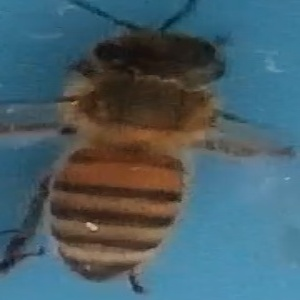bee: (15, 4, 277, 293)
